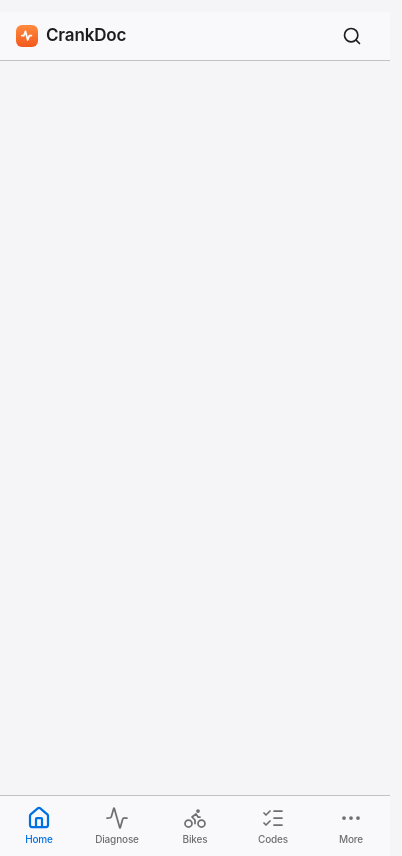
Test: Navigation › More toggles aria-expanded
Step 1. Click the button with aria-label "More navigation" → click(351, 826), box [312, 796, 390, 855]
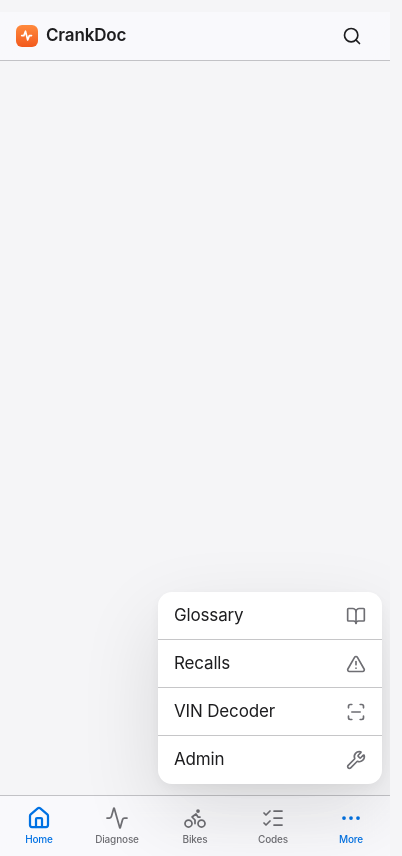
Result: the button with aria-label "More navigation" is expanded at [312, 796, 390, 855]
